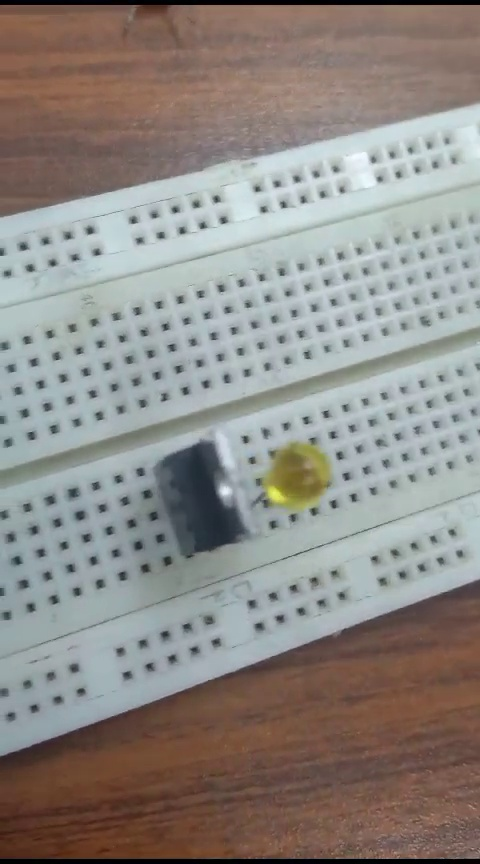LED: (270, 445, 331, 508)
voltage regulator: (143, 432, 254, 556)
